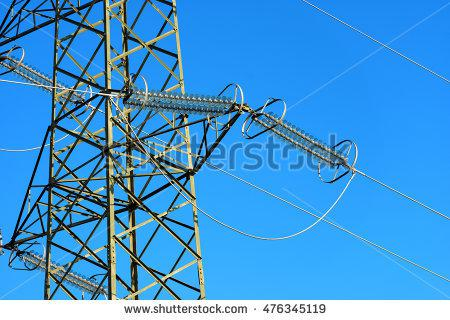isolator: (253, 112, 348, 169), (20, 250, 107, 295), (1, 56, 78, 101), (122, 87, 234, 115)
